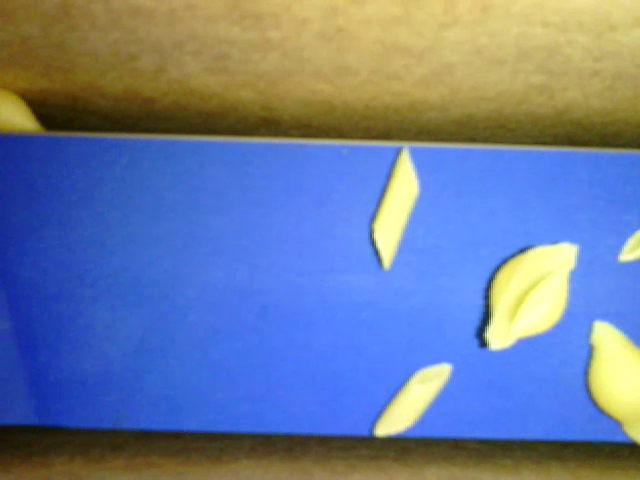penne: (369, 146, 420, 272), (372, 362, 453, 439)
shell: (483, 240, 580, 350), (585, 318, 639, 443)
